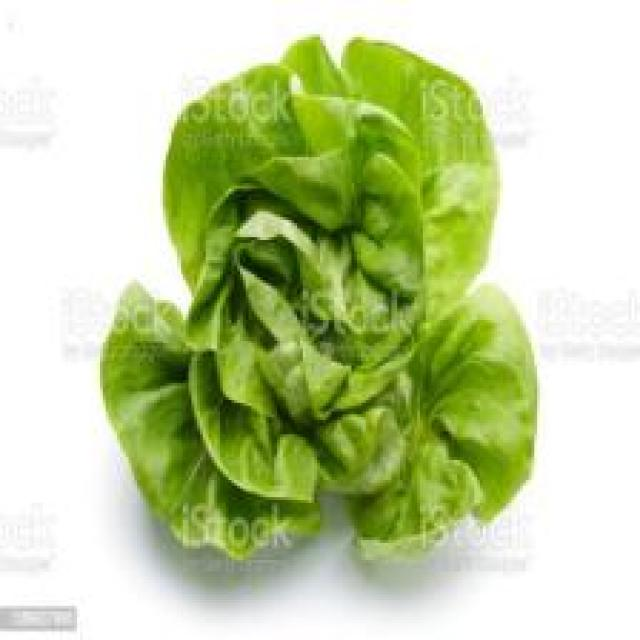Lettuce: (91, 32, 548, 566)
